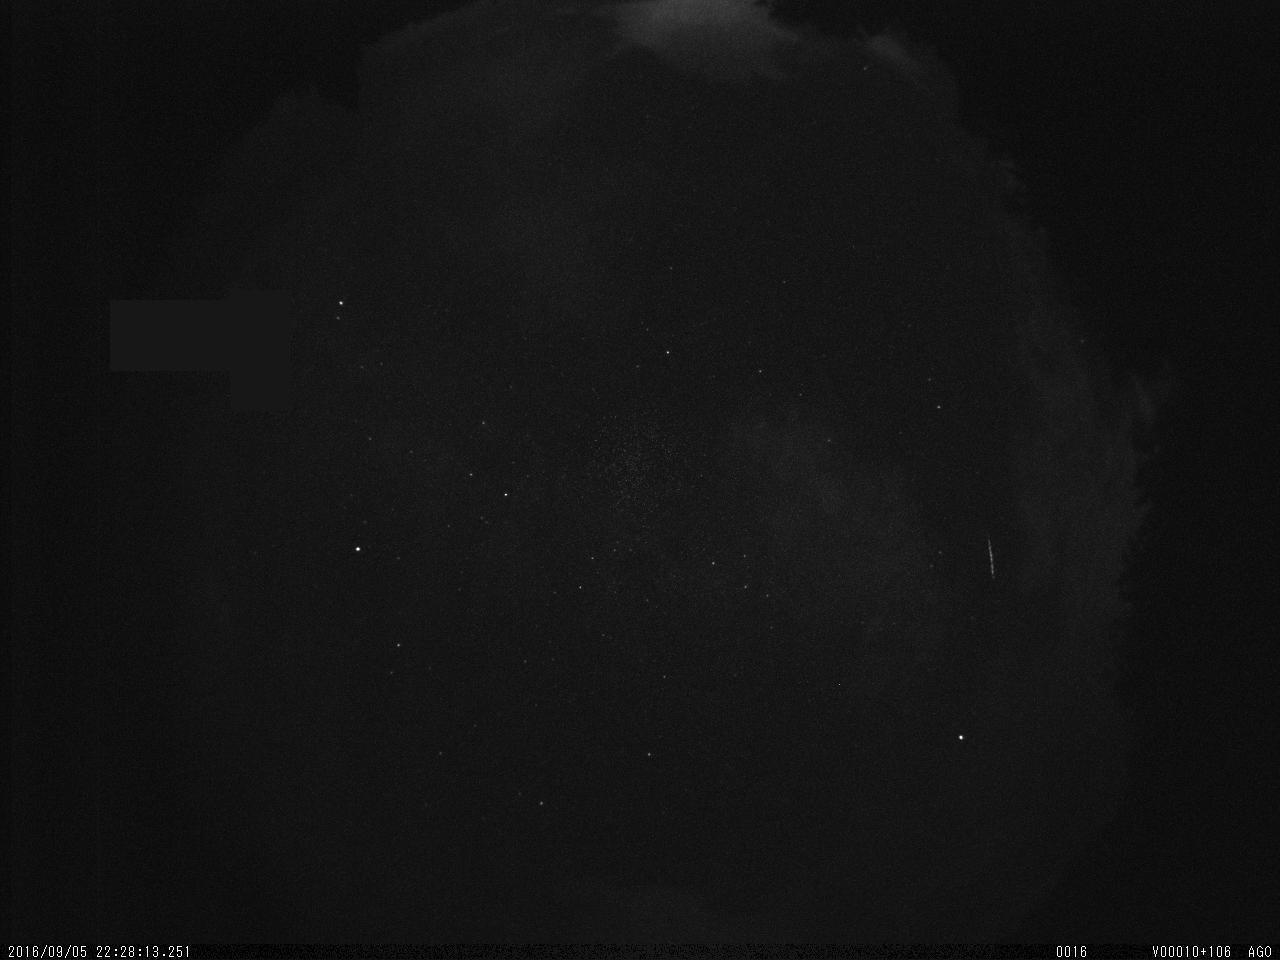Meteor: (981, 530, 1000, 584)
